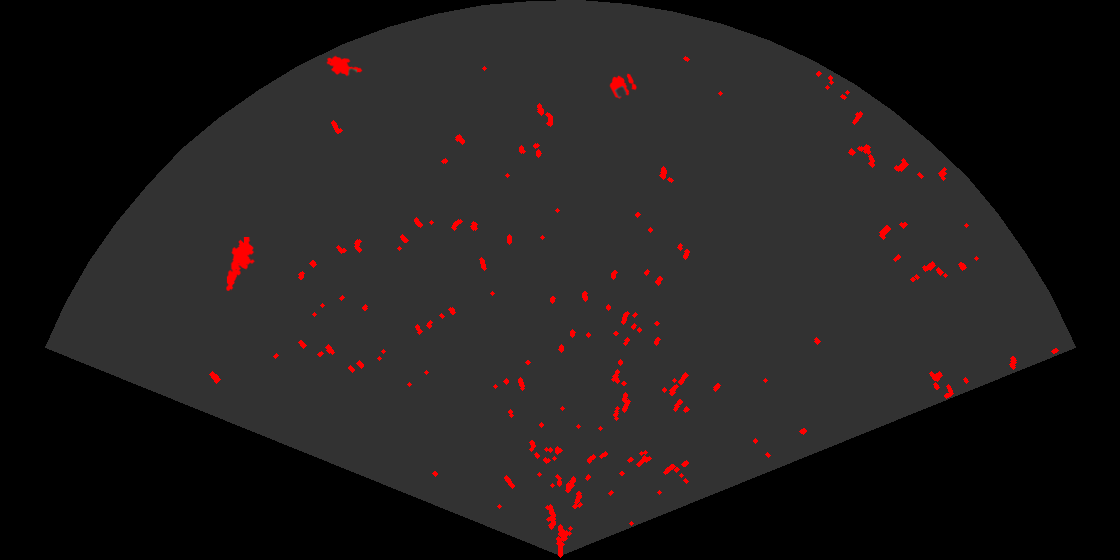AUV: (325, 54, 364, 78)
ball: (608, 72, 638, 101)
frogman: (225, 237, 257, 291)
